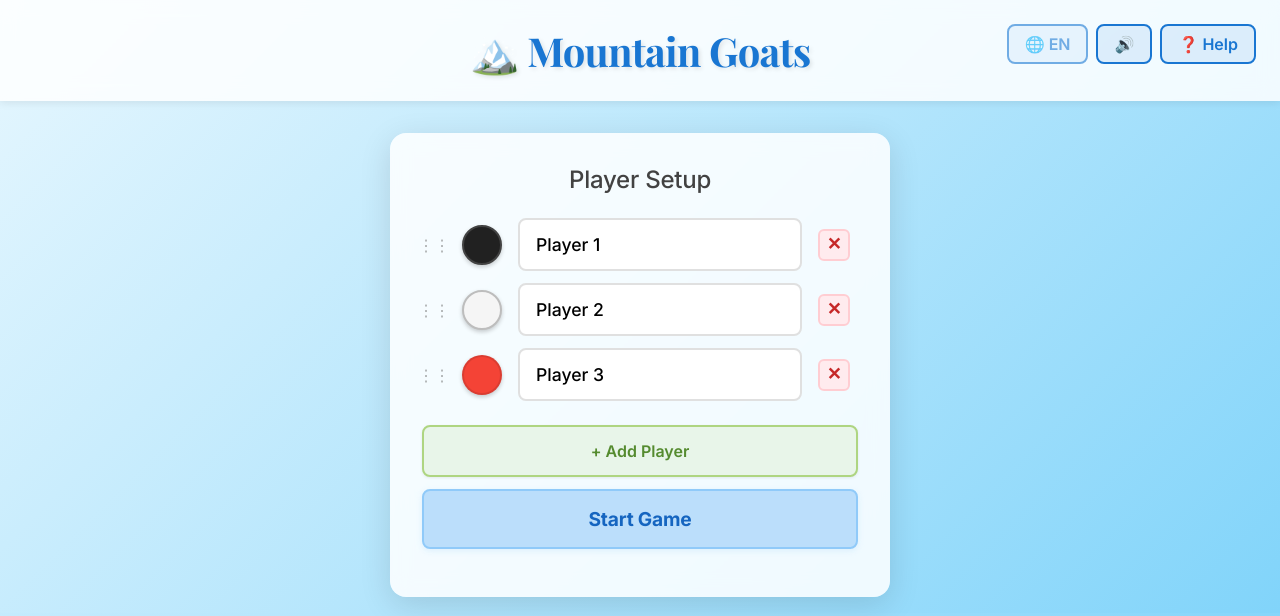
Test: App › should open help modal
The width and height of the screenshot is (1280, 616).
# Start game first
What coordinates should you click on to do the following:
click the button "Start Game"
I would click on:
 (640, 519)
Its box is [422, 489, 858, 549].
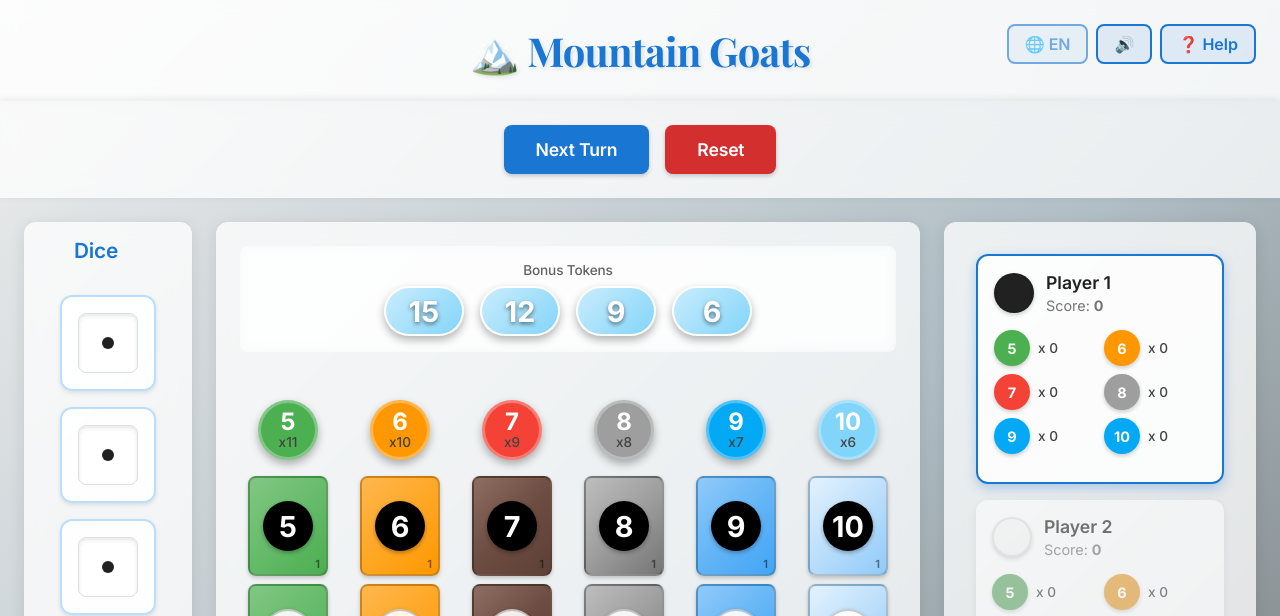
What coordinates should you click on to do the following:
click the button "❓ Help"
I would click on:
 (1208, 44)
Its box is [1160, 24, 1256, 64].
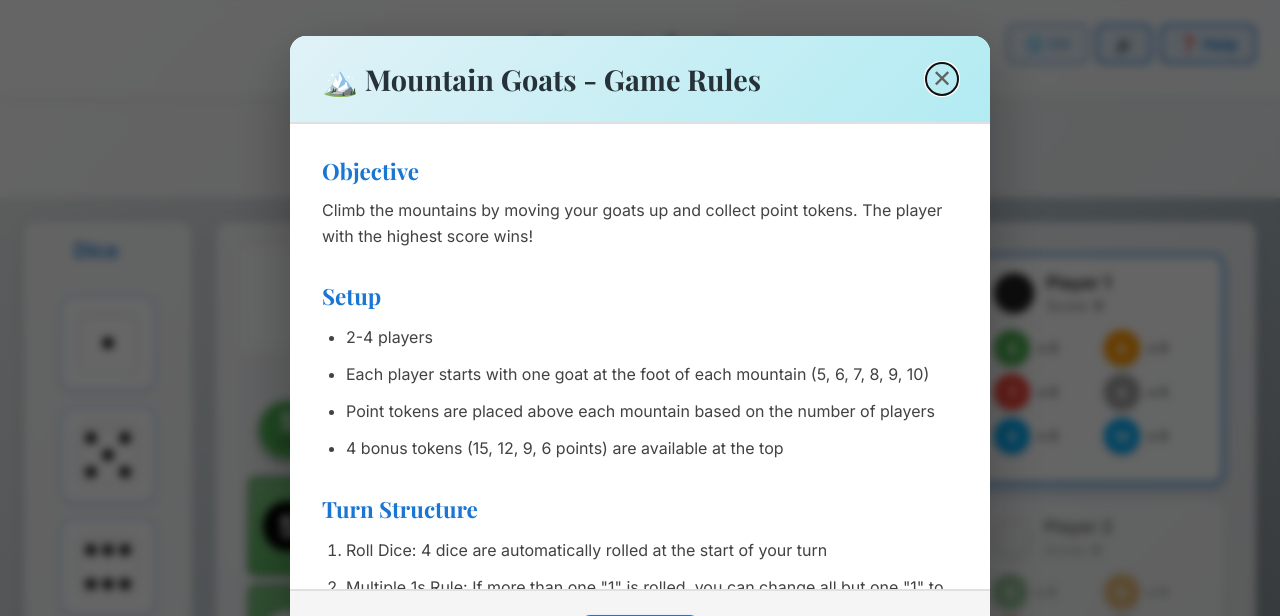
Result: the heading "🏔️ Mountain Goats - Game Rules" is shown at [322, 60, 761, 98]
